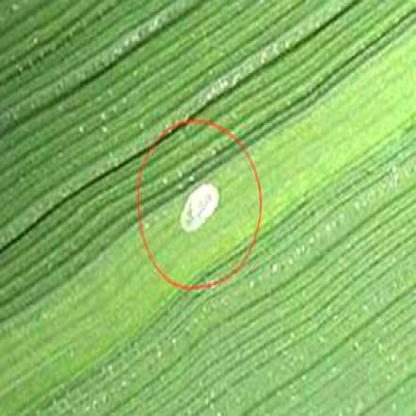leaf-folder: (174, 174, 225, 244)
